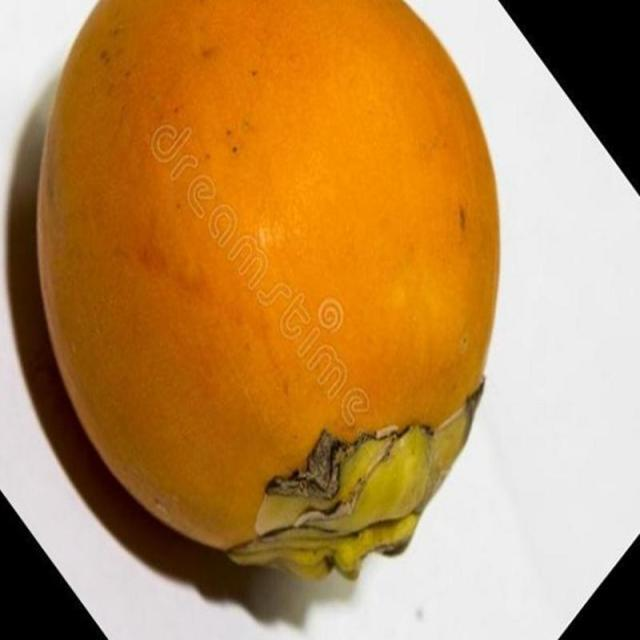good: (31, 0, 502, 587)
